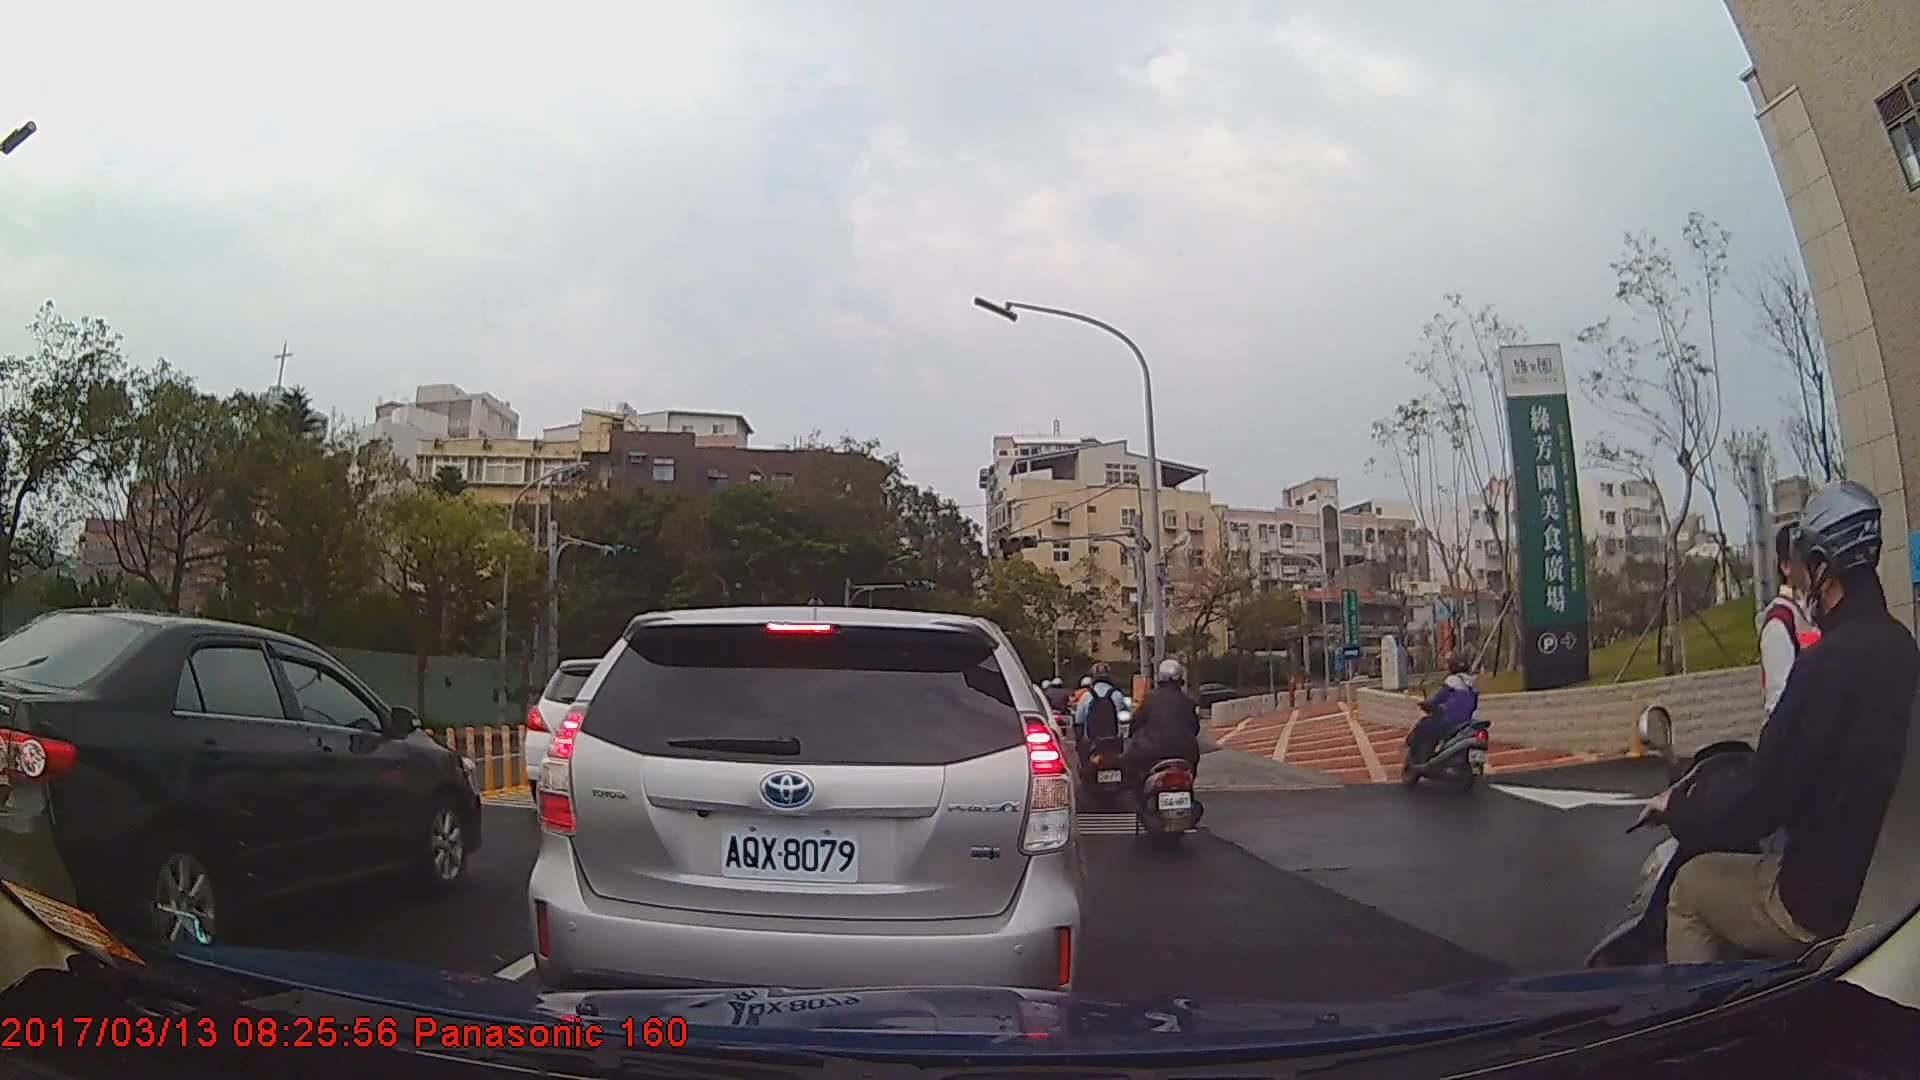rider: (1579, 478, 1920, 1080), (1123, 657, 1203, 846), (1400, 651, 1496, 795), (1073, 658, 1133, 813)
vehicle: (527, 602, 1080, 1033), (0, 607, 483, 956)
